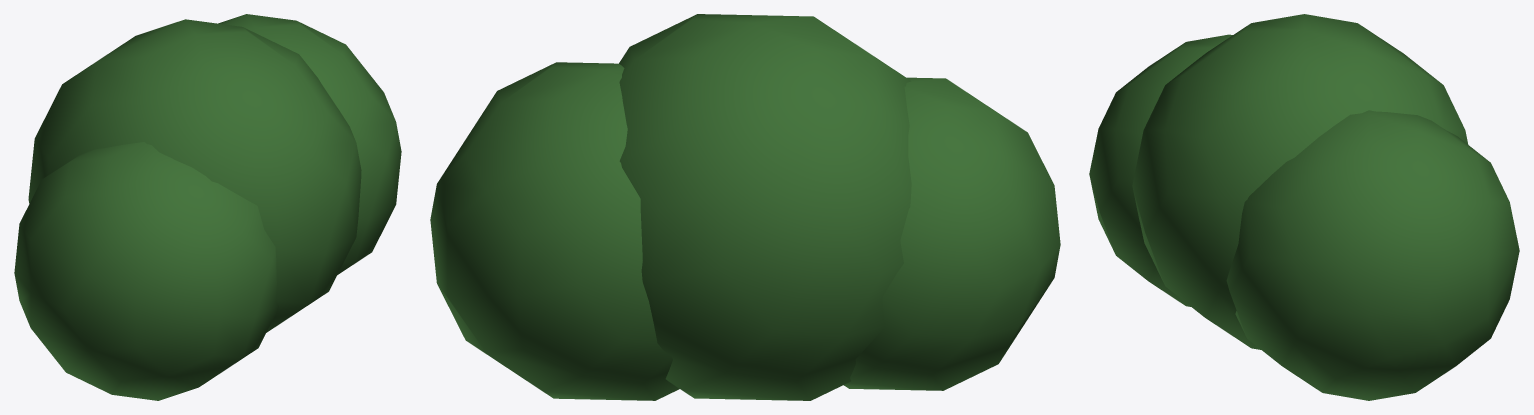
File: shrub.glb
3 renders of one model, left to right at view 1: azimuth 30°, elevation 25°; view 2: azimuth 150°, elevation 25°; view 3: azimuth 270°, elevation 25°, orthographic. The views are drawn at different scales.
Bounding box in the file's own units: 2.3 × 1.6 × 2.
